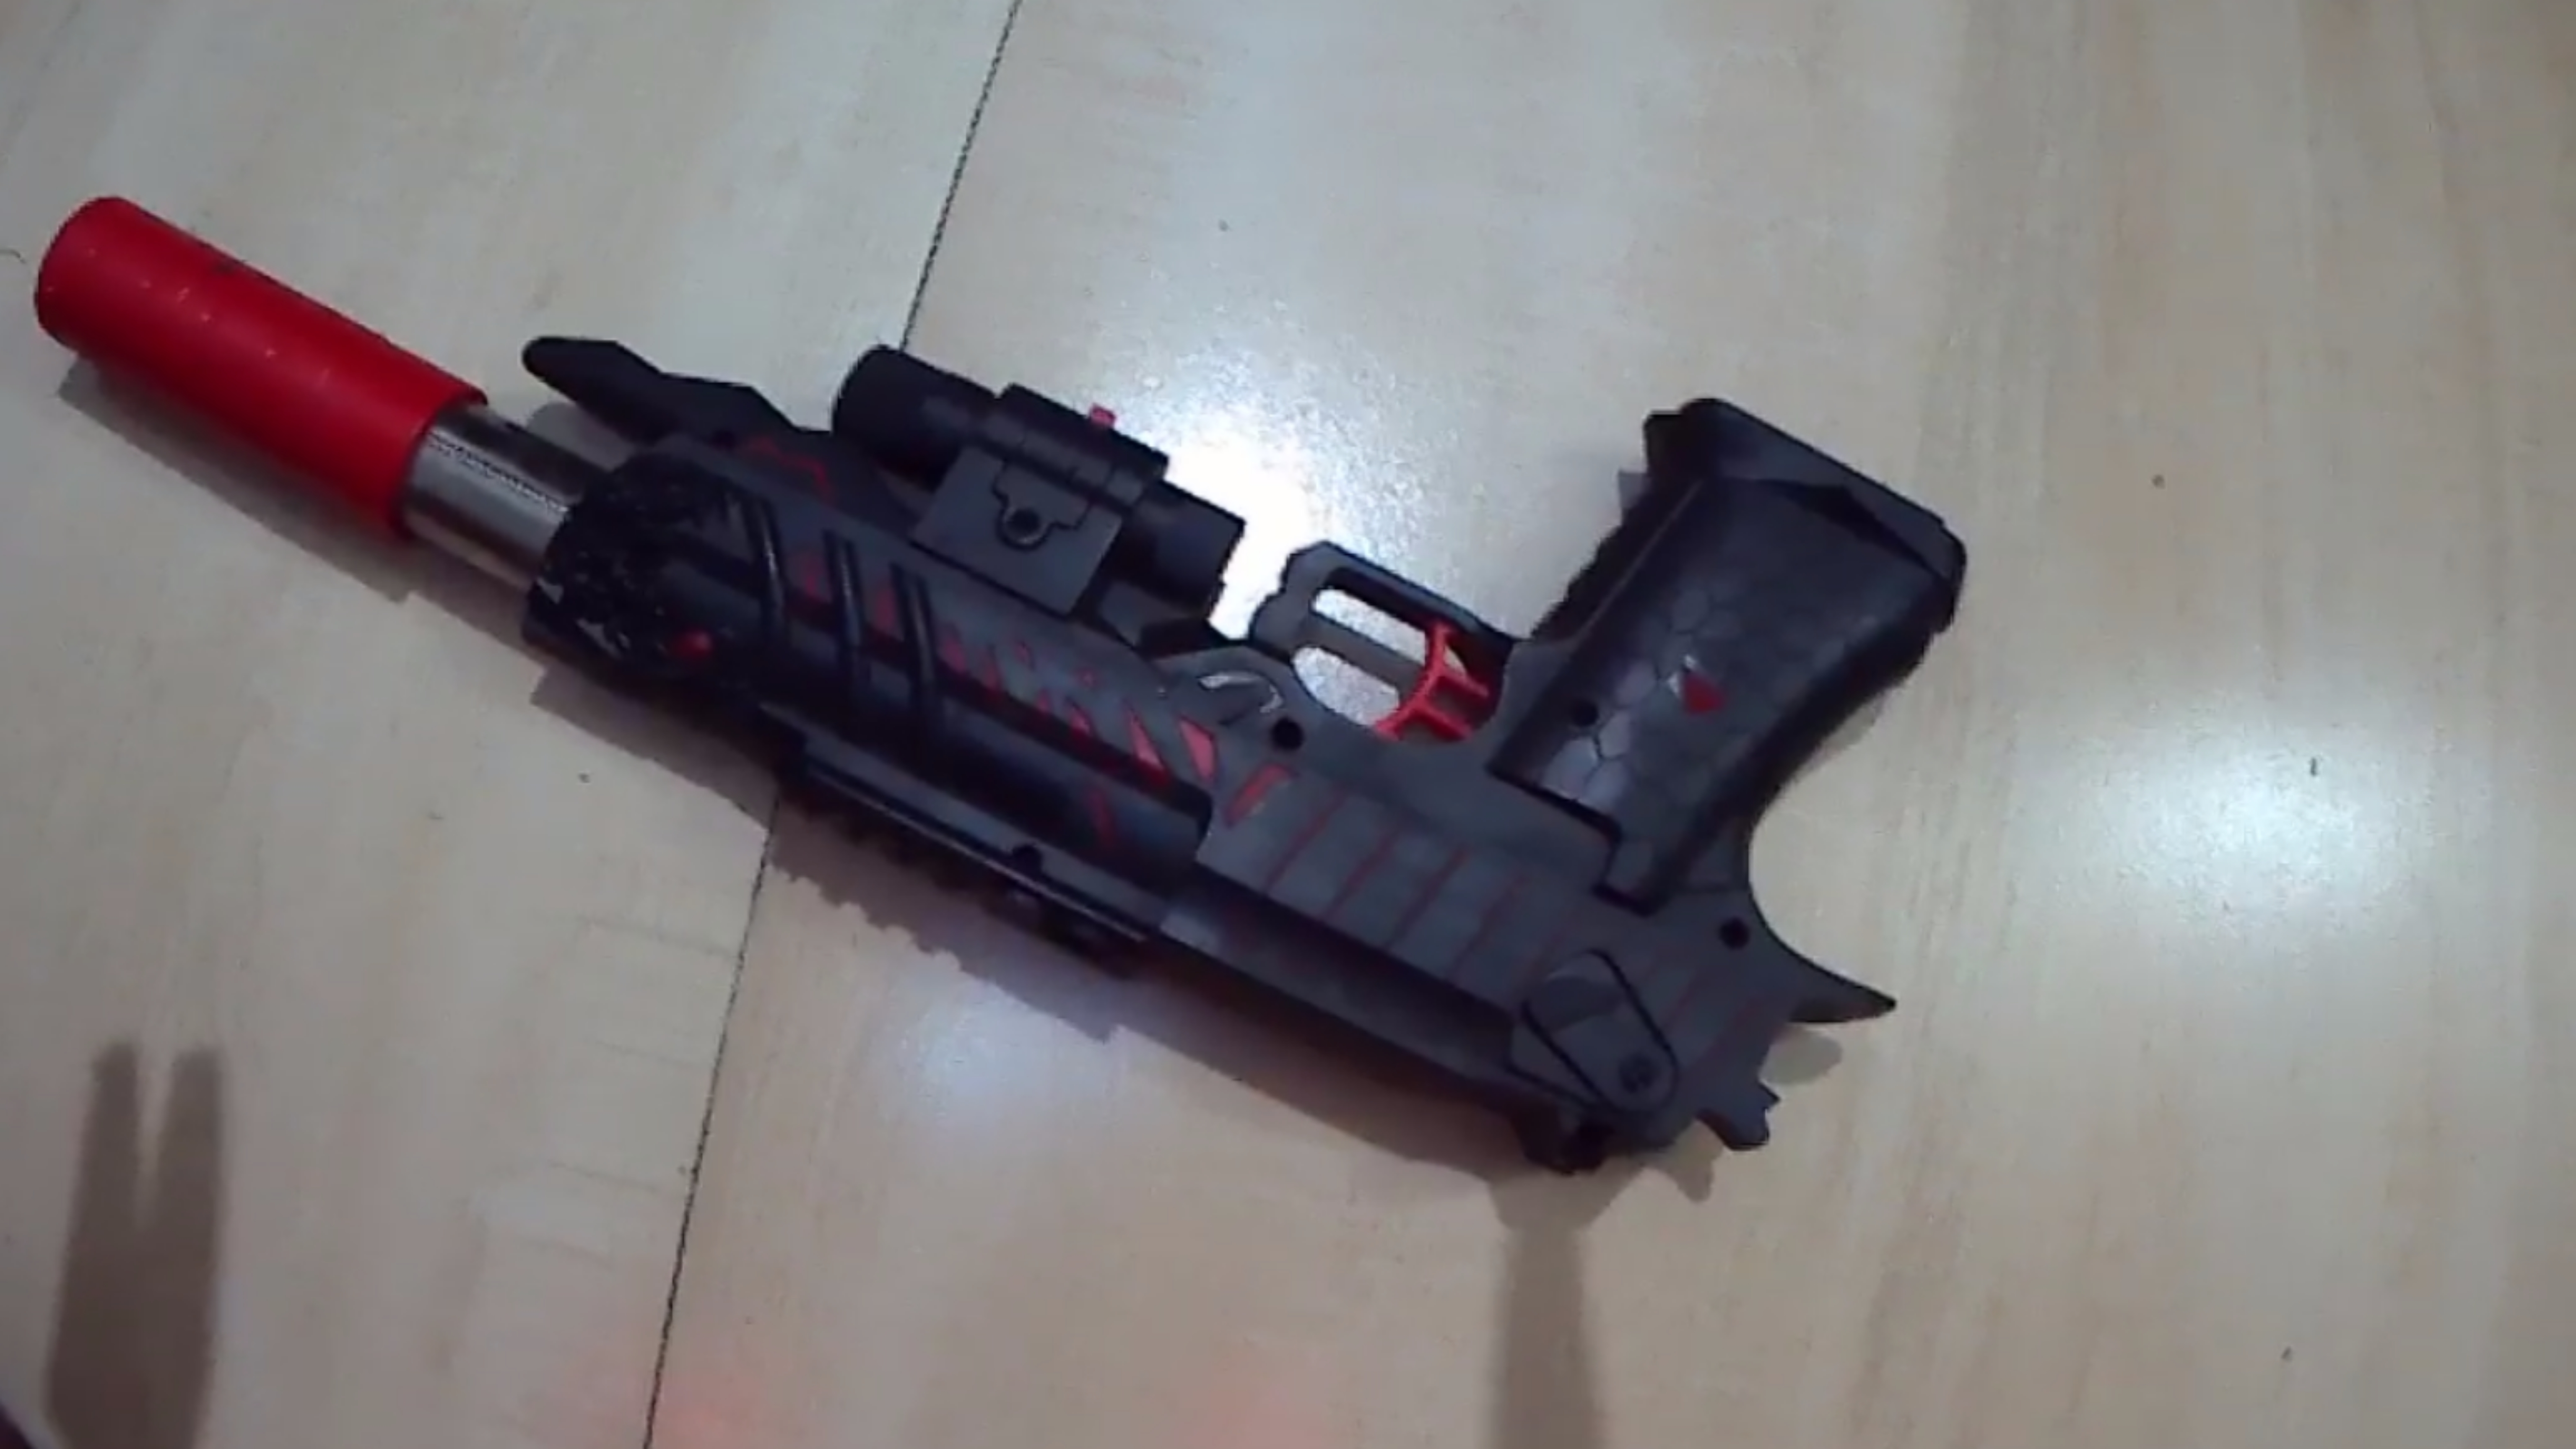handgun: (30, 188, 1978, 1207)
